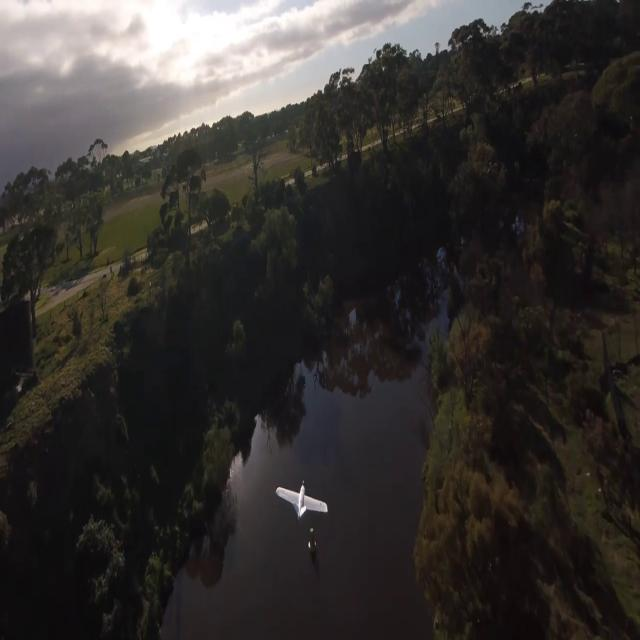iha: (276, 480, 332, 517)
